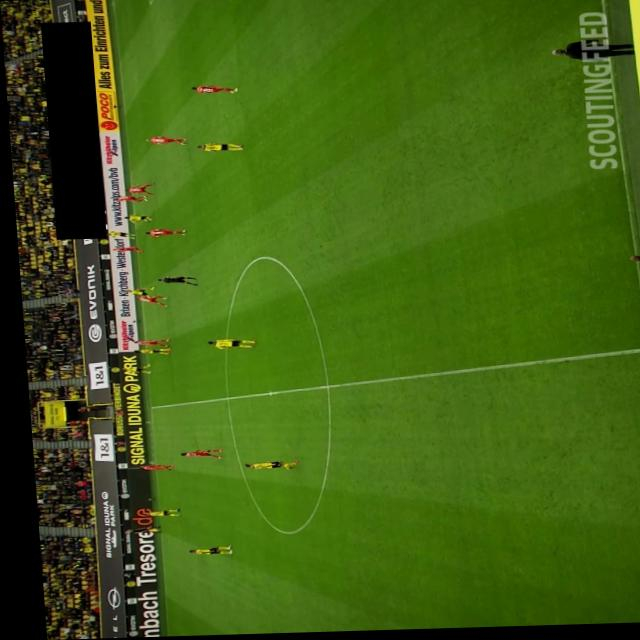player: (201, 338, 252, 350), (237, 460, 291, 471), (189, 85, 237, 96), (173, 448, 216, 460), (123, 337, 165, 349), (194, 143, 242, 153), (131, 294, 164, 308), (180, 545, 225, 555), (143, 135, 186, 145), (141, 228, 183, 237), (137, 508, 173, 518), (123, 183, 153, 195), (127, 347, 166, 356), (115, 364, 146, 375), (122, 287, 150, 298), (104, 230, 132, 240), (111, 195, 145, 203), (120, 214, 149, 223), (131, 464, 168, 471), (108, 246, 140, 253)
referee: (152, 275, 193, 287), (117, 525, 153, 534)
